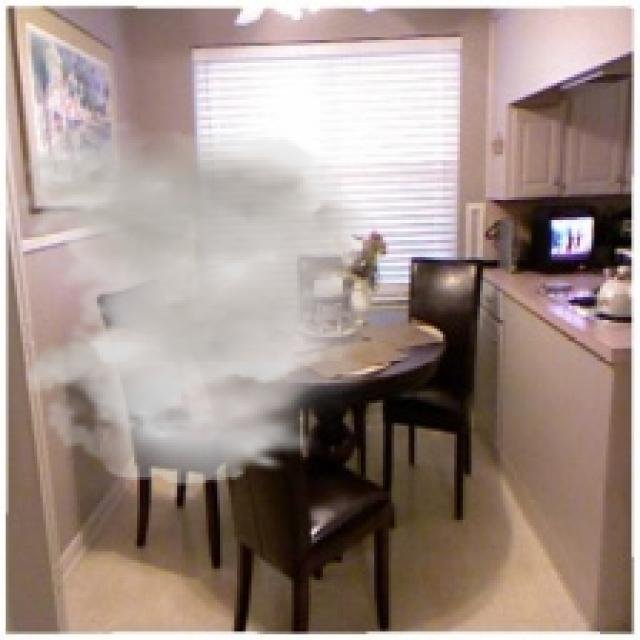Smoke: (11, 117, 428, 486)
